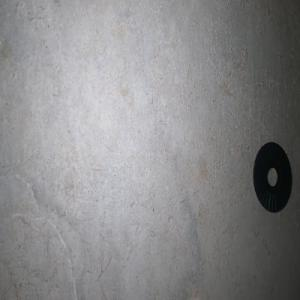Washer: (252, 141, 292, 212)
